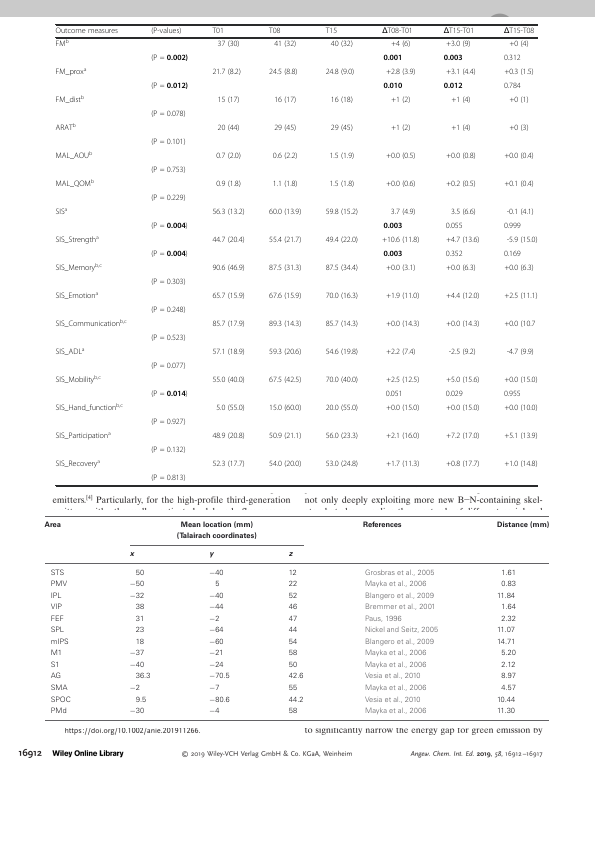borderless: (54, 22, 537, 485), (44, 515, 549, 720)
cell: (176, 521, 258, 541), (55, 318, 128, 329), (55, 402, 124, 413), (364, 626, 439, 635), (364, 604, 436, 613), (364, 569, 435, 578), (364, 592, 435, 601), (364, 638, 435, 647), (55, 430, 112, 441), (55, 27, 119, 36), (364, 661, 427, 670), (364, 684, 427, 693), (364, 707, 427, 716), (55, 262, 103, 273), (55, 374, 102, 385), (364, 673, 421, 682), (364, 696, 421, 705), (55, 458, 101, 469), (364, 581, 427, 589), (364, 650, 427, 658), (55, 234, 100, 245), (55, 290, 99, 301), (55, 178, 95, 189), (496, 521, 550, 529), (55, 150, 93, 161), (55, 66, 87, 77), (364, 615, 403, 624), (150, 54, 189, 63), (150, 82, 189, 91), (150, 222, 189, 231), (381, 236, 420, 245), (150, 250, 189, 259), (150, 390, 189, 399), (55, 94, 85, 105), (55, 346, 85, 357), (362, 521, 403, 529), (150, 110, 186, 119), (150, 138, 186, 147), (150, 166, 186, 175), (150, 194, 186, 203), (150, 278, 186, 287), (150, 306, 186, 315), (150, 334, 186, 343), (150, 362, 186, 371), (150, 418, 186, 427), (150, 446, 186, 455), (150, 474, 186, 483), (211, 208, 246, 217), (211, 236, 246, 245), (445, 236, 480, 245), (211, 264, 246, 273), (211, 292, 246, 301), (385, 292, 420, 301), (445, 292, 480, 301), (503, 292, 538, 301), (211, 320, 246, 329), (385, 320, 420, 329), (445, 320, 480, 329), (211, 348, 246, 357), (211, 376, 246, 385), (385, 376, 420, 385), (445, 376, 480, 385), (503, 376, 538, 385), (385, 404, 420, 413), (445, 404, 480, 413), (503, 404, 538, 413), (211, 432, 246, 441), (385, 432, 420, 441), (445, 432, 480, 441), (503, 432, 538, 441), (211, 460, 246, 469), (385, 460, 420, 469), (445, 460, 480, 469), (503, 460, 538, 469), (268, 208, 302, 217), (325, 208, 359, 217), (268, 236, 302, 245), (325, 236, 359, 245), (268, 264, 302, 273), (325, 264, 359, 273), (268, 292, 302, 301), (325, 292, 359, 301), (268, 320, 302, 329), (325, 320, 359, 329), (268, 348, 302, 357), (325, 348, 359, 357), (268, 376, 302, 385), (325, 376, 359, 385), (268, 404, 302, 413), (325, 404, 359, 413), (268, 432, 302, 441), (325, 432, 359, 441), (268, 460, 302, 469), (325, 460, 359, 469), (381, 27, 414, 36), (503, 320, 536, 329), (150, 27, 182, 36), (443, 27, 475, 36), (503, 27, 535, 36), (445, 68, 477, 77), (503, 68, 535, 77), (445, 152, 477, 161), (503, 152, 535, 161), (445, 180, 477, 189), (503, 180, 535, 189), (506, 236, 538, 245), (445, 264, 477, 273), (503, 264, 535, 273), (211, 68, 242, 77), (385, 68, 416, 77), (385, 152, 416, 161), (385, 180, 416, 189), (385, 264, 416, 273), (385, 348, 416, 357), (215, 404, 246, 413), (268, 68, 298, 77), (325, 68, 355, 77), (506, 208, 535, 217), (448, 348, 477, 357), (506, 348, 535, 357), (215, 152, 242, 161), (328, 152, 355, 161), (215, 180, 242, 189), (328, 180, 355, 189), (450, 208, 477, 217), (55, 122, 77, 133), (445, 40, 471, 49), (272, 152, 298, 161), (272, 180, 298, 189), (390, 208, 416, 217), (273, 40, 297, 49), (330, 40, 354, 49), (273, 96, 297, 105), (330, 96, 354, 105), (273, 124, 297, 133), (330, 124, 354, 133), (208, 673, 231, 682), (208, 696, 231, 705), (217, 40, 240, 49), (217, 96, 240, 105), (217, 124, 240, 133), (50, 696, 72, 705), (390, 40, 411, 49), (508, 40, 529, 49), (390, 96, 411, 105), (450, 96, 471, 105), (508, 96, 529, 105), (390, 124, 411, 133), (450, 124, 471, 133), (508, 124, 529, 133), (496, 592, 516, 601), (496, 626, 516, 635), (50, 638, 70, 647), (496, 638, 516, 647), (496, 696, 516, 705), (496, 707, 516, 716), (382, 54, 403, 62), (382, 82, 403, 90), (382, 222, 403, 230), (382, 250, 403, 258), (55, 38, 70, 49), (50, 684, 68, 693), (50, 707, 68, 716), (503, 54, 521, 63), (503, 82, 521, 91), (445, 222, 463, 231), (503, 222, 521, 231), (445, 250, 463, 259), (503, 250, 521, 259), (385, 390, 403, 399), (445, 390, 463, 399), (503, 390, 521, 399), (443, 54, 463, 62), (443, 82, 463, 90), (208, 569, 225, 578), (500, 569, 517, 578), (208, 592, 225, 601), (208, 604, 225, 613), (500, 604, 517, 613), (500, 615, 517, 624), (208, 626, 225, 635), (208, 638, 225, 647), (208, 650, 225, 659), (208, 661, 225, 670), (500, 673, 517, 682), (500, 684, 517, 693), (43, 521, 62, 529), (50, 581, 68, 589), (129, 592, 145, 601), (129, 650, 145, 659), (129, 661, 145, 670), (500, 661, 516, 670), (135, 673, 151, 682), (288, 673, 304, 682), (288, 696, 304, 705), (129, 707, 145, 716), (55, 206, 68, 217), (500, 581, 517, 589), (500, 650, 517, 658), (50, 569, 65, 578), (50, 615, 65, 624), (50, 626, 65, 635), (129, 581, 145, 589), (211, 27, 225, 36), (50, 592, 63, 601), (50, 604, 63, 613), (50, 650, 63, 659), (268, 27, 281, 36), (325, 27, 338, 36), (208, 615, 220, 624), (50, 673, 62, 682), (129, 684, 141, 693), (208, 684, 220, 693), (135, 696, 147, 705), (208, 707, 220, 716), (135, 569, 145, 578), (288, 569, 298, 578), (288, 592, 298, 601), (135, 604, 145, 613), (288, 604, 298, 613), (135, 615, 145, 624), (288, 615, 298, 624), (135, 626, 145, 635), (288, 626, 298, 635), (135, 638, 145, 647), (288, 638, 298, 647), (288, 650, 298, 659), (50, 661, 60, 670), (288, 661, 298, 670), (288, 684, 298, 693), (288, 707, 298, 716), (288, 581, 298, 589), (214, 581, 220, 589), (129, 552, 135, 559), (208, 552, 214, 559), (288, 552, 293, 559)
